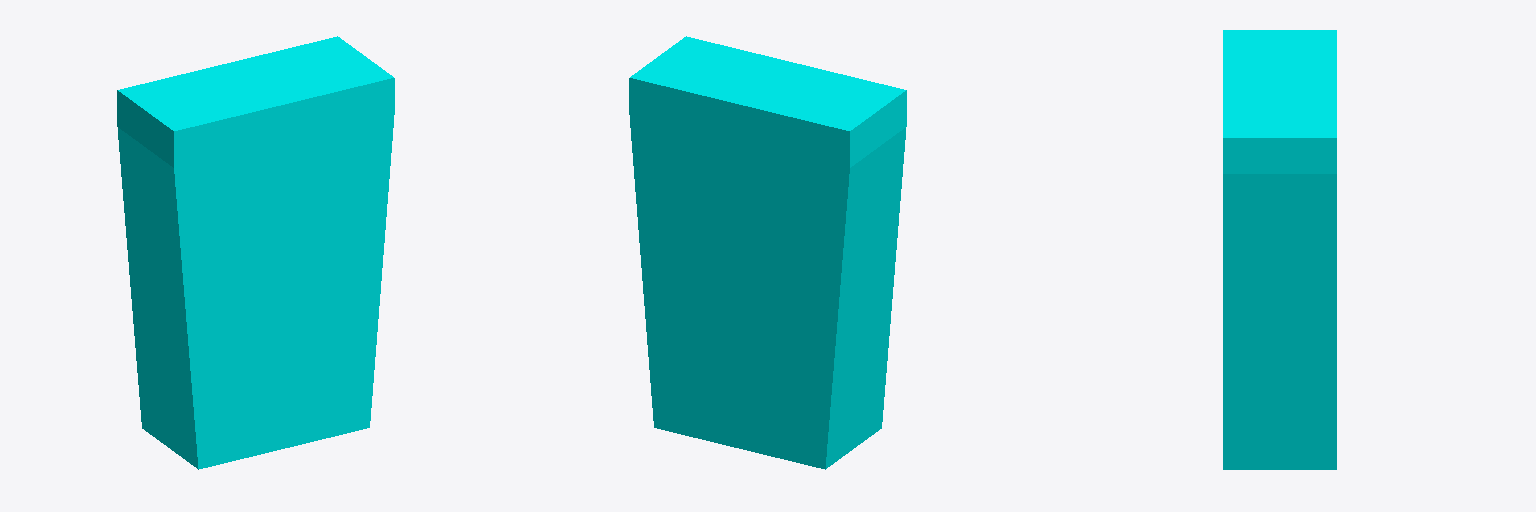
The model's file is PlayerBody.obj.
The picture shows the model from 3 angles: view 1: azimuth 30°, elevation 25°; view 2: azimuth 150°, elevation 25°; view 3: azimuth 270°, elevation 25°; orthographic projection.
Visible parts, largest first — view 1: PlayerBody; view 2: PlayerBody; view 3: PlayerBody.
Part boxes in pixels (x1,y1,x2,y2): PlayerBody: (117, 36, 394, 469); PlayerBody: (629, 36, 906, 469); PlayerBody: (1223, 30, 1336, 469).
Size of the model in its own units: 0.4504 by 0.6716 by 0.2.